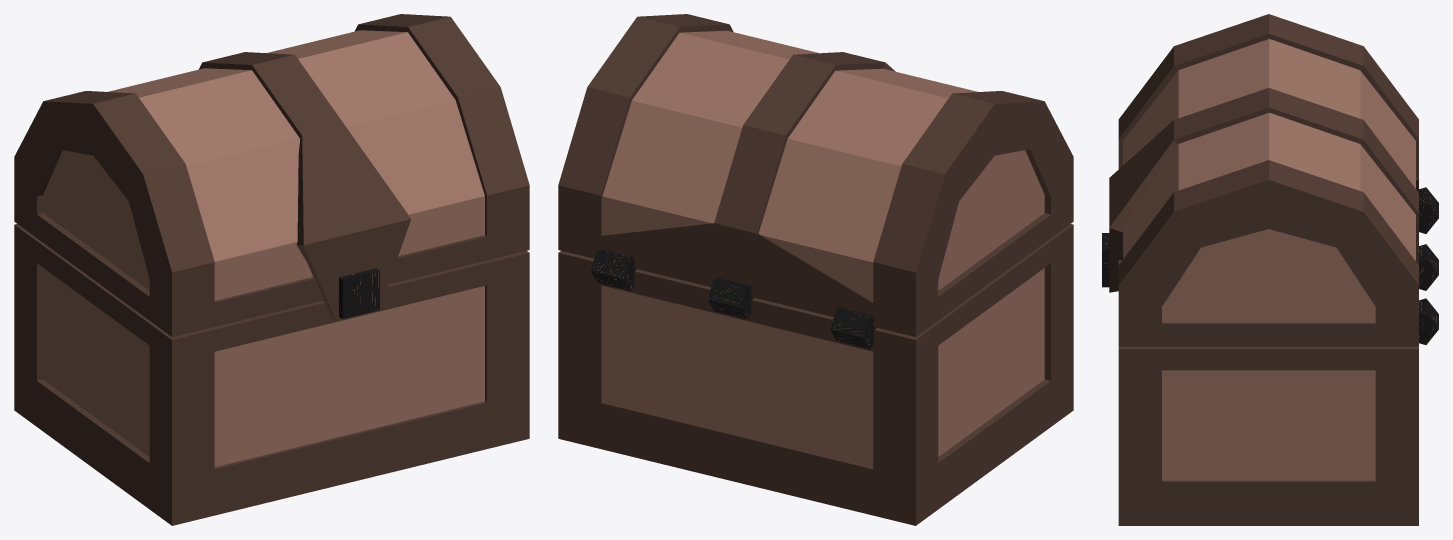
File: TreasureChest.glb
The picture shows the model from 3 angles, left to right: view 1: azimuth 30°, elevation 25°; view 2: azimuth 150°, elevation 25°; view 3: azimuth 270°, elevation 25°; orthographic projection. The views are drawn at different scales.
Parts seen in each view (by area): view 1: TreasureChest_mesh; view 2: TreasureChest_mesh; view 3: TreasureChest_mesh.
Boxes of the visible parts, bbox=[...] form: TreasureChest_mesh: bbox=[14, 14, 529, 525]; TreasureChest_mesh: bbox=[558, 14, 1073, 525]; TreasureChest_mesh: bbox=[1102, 14, 1438, 525].
Size of the model in its own units: 0.7691 by 0.7488 by 0.6604.
Materials: 1 (1 with a texture image).
